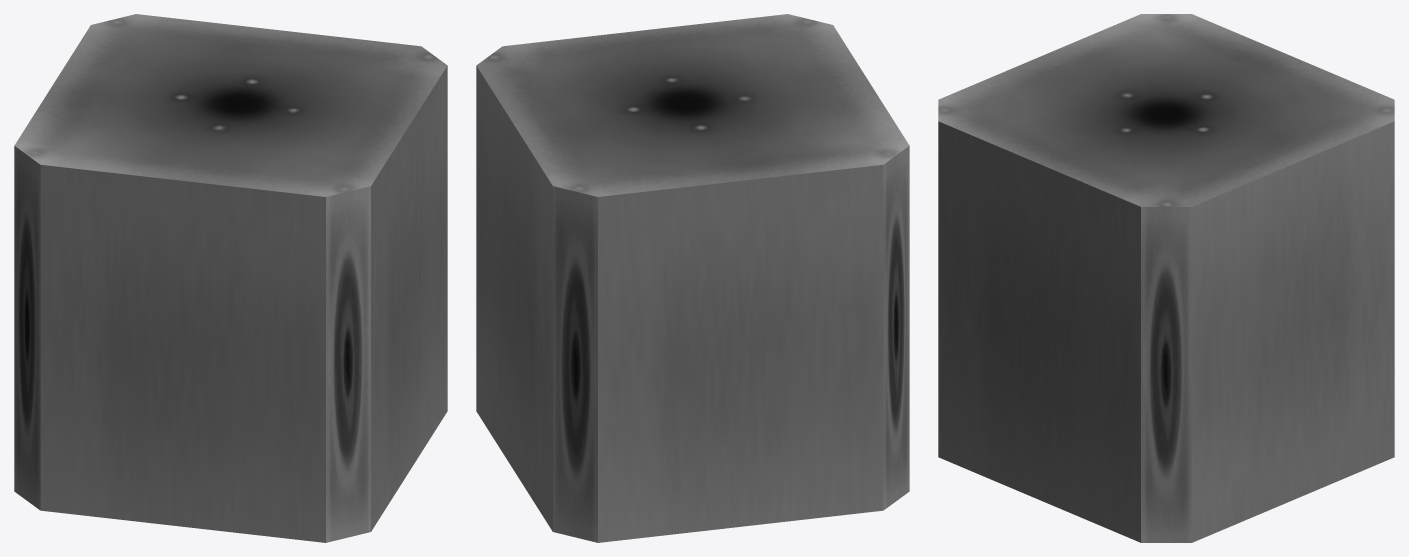
Rendered from loEngineColider.dae.
3 views of the same model, side by side, from view 1: azimuth 30°, elevation 25°; view 2: azimuth 150°, elevation 25°; view 3: azimuth 270°, elevation 25° (orthographic). The views are drawn at different scales.
Parts seen in each view (by area): view 1: loEngineCollider; view 2: loEngineCollider; view 3: loEngineCollider.
Boxes of the visible parts, box(x1,y1,x2,y2) form: loEngineCollider: box(14, 14, 447, 542); loEngineCollider: box(476, 14, 909, 542); loEngineCollider: box(938, 14, 1394, 542).
Bounding box in the file's own units: 0.7761 × 0.6302 × 0.7761.
